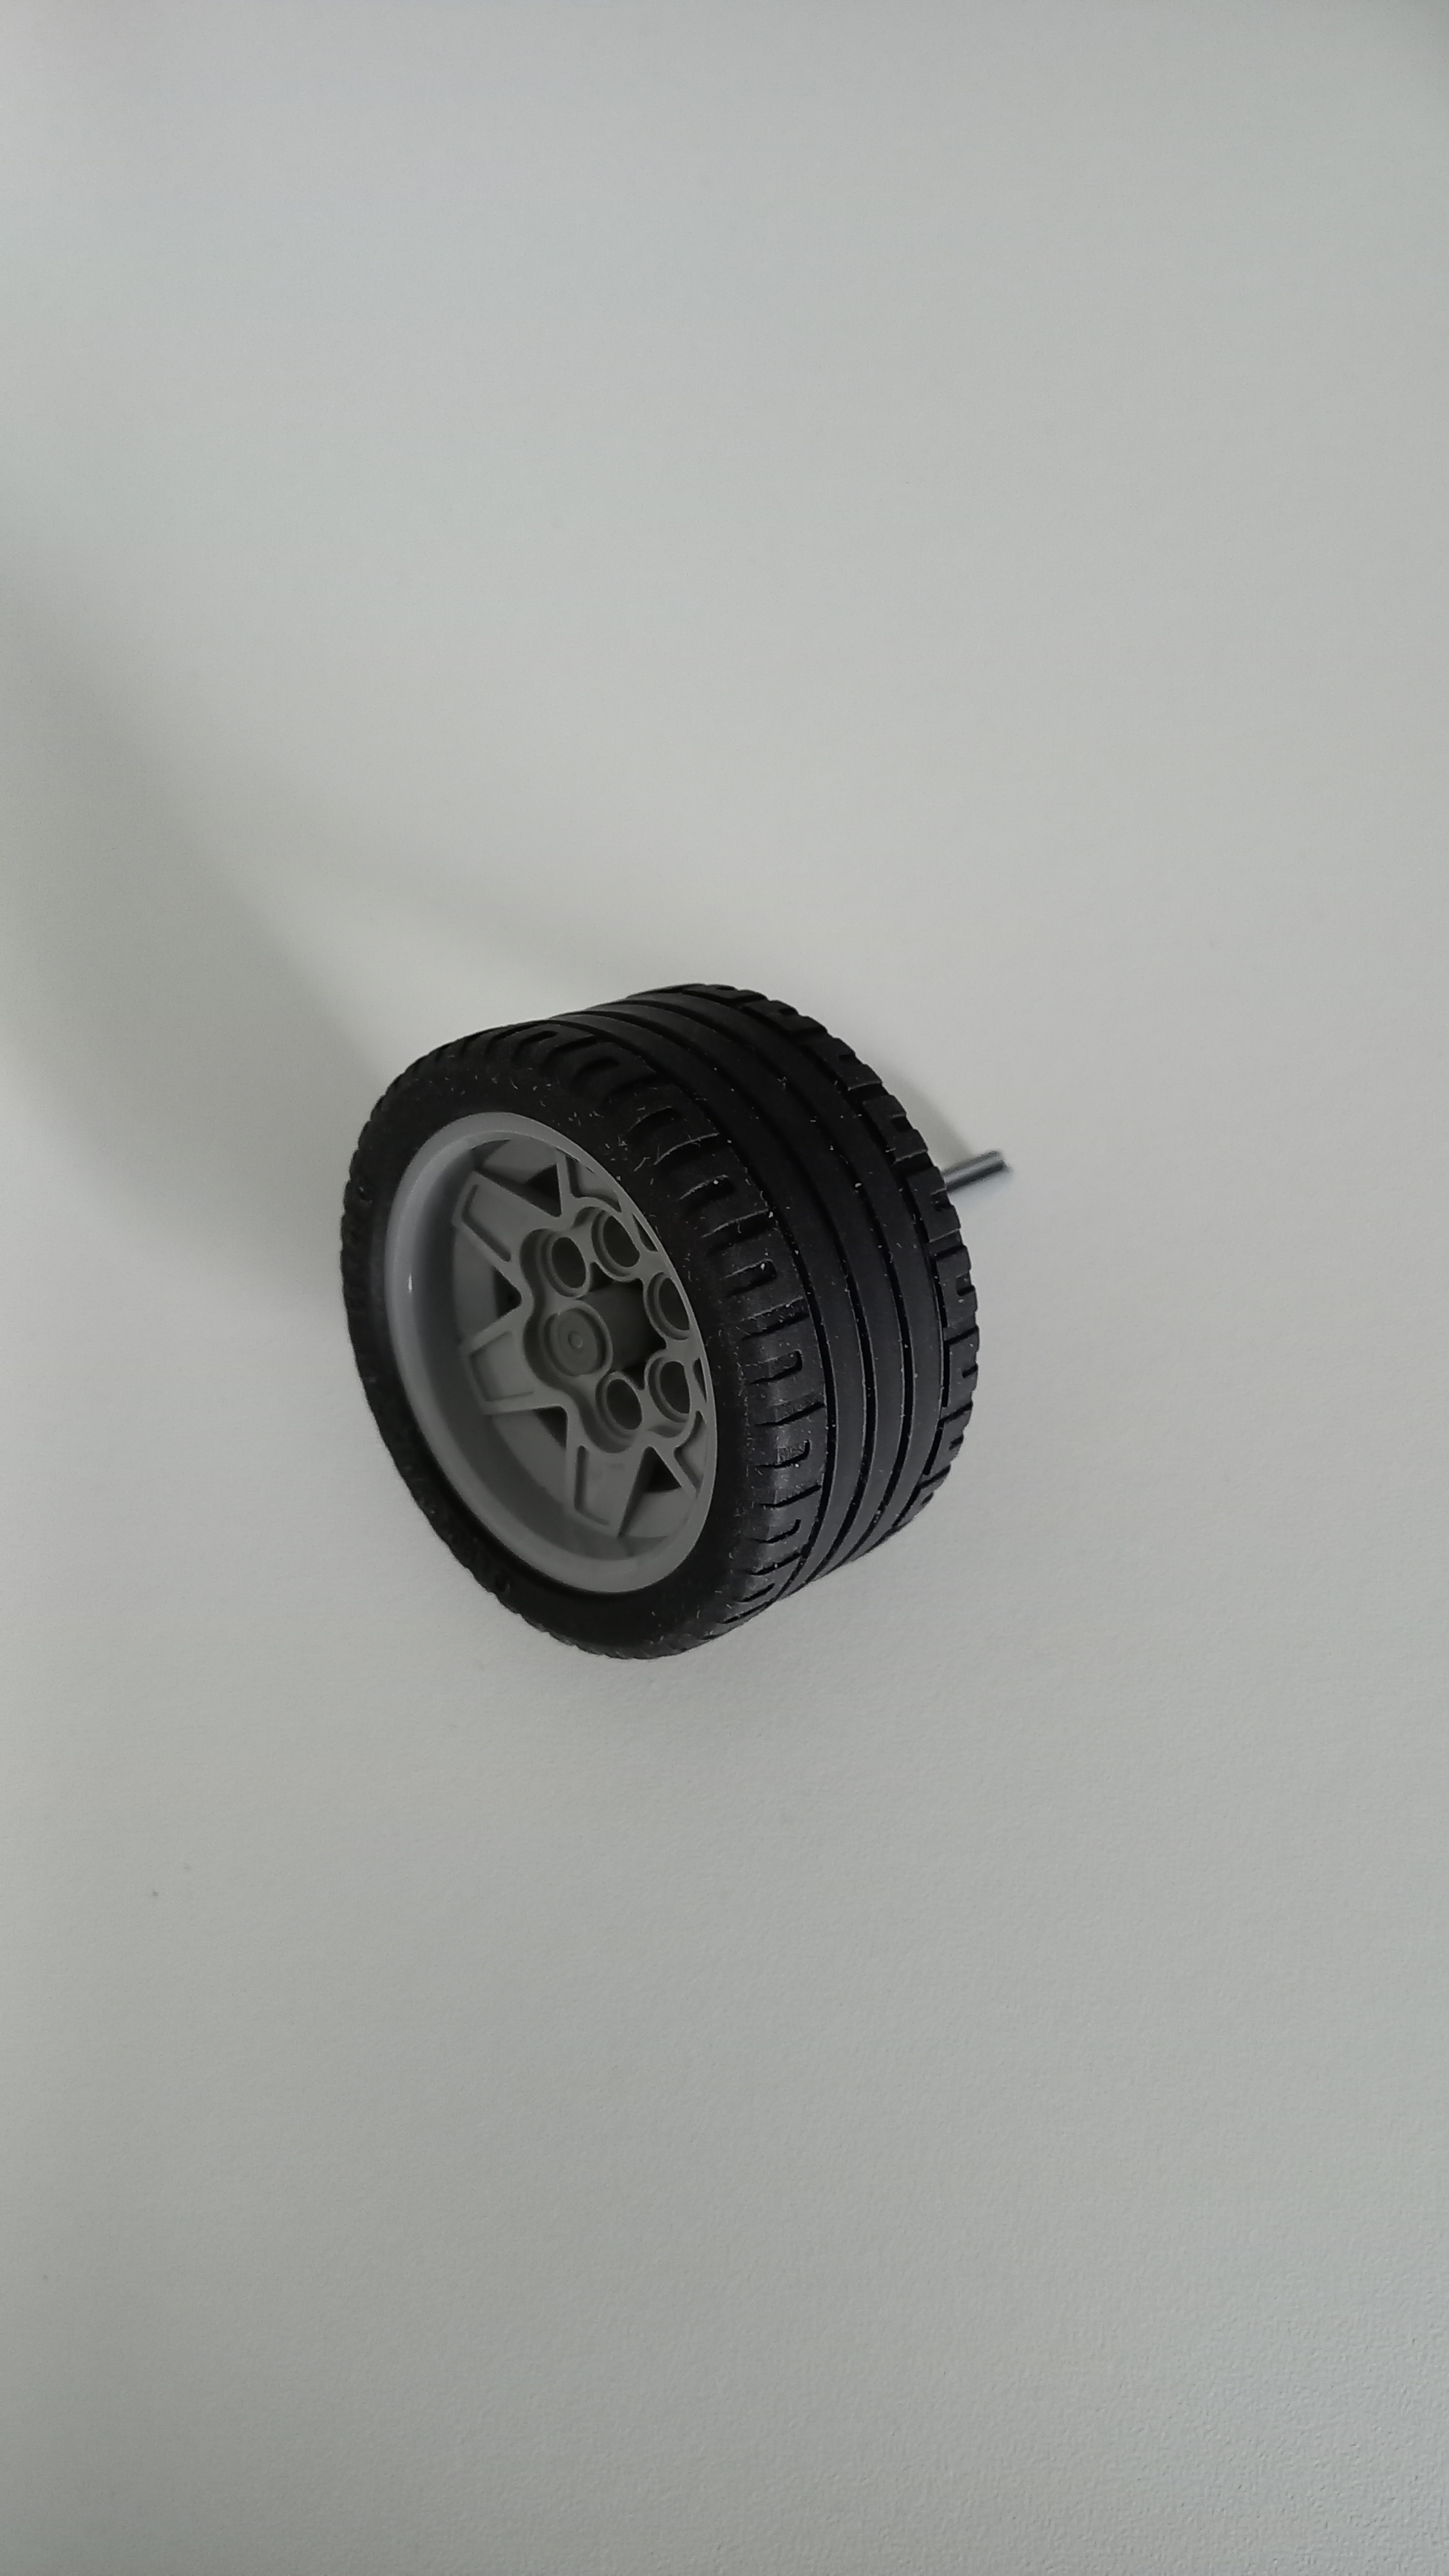Rad+Grau_lang: (326, 964, 1019, 1674)
